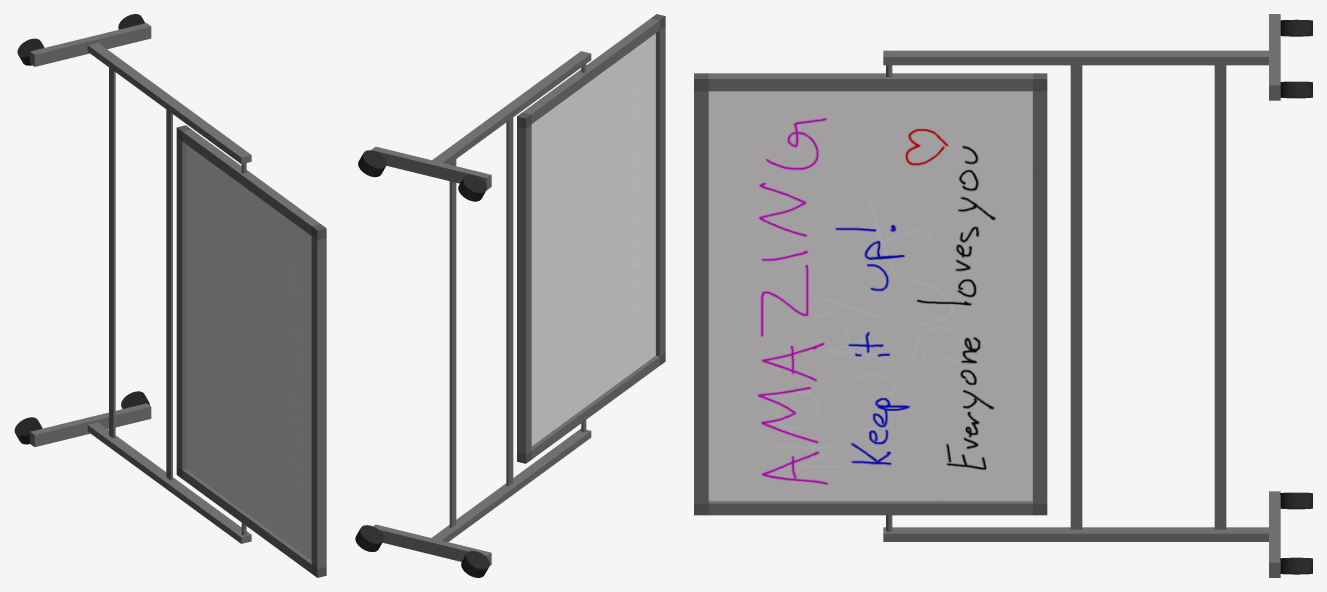
Rendered from whiteboard-2.glb.
3 renders of one model, left to right at view 1: azimuth 30°, elevation 25°; view 2: azimuth 150°, elevation 25°; view 3: azimuth 270°, elevation 25°, orthographic. The views are drawn at different scales.
Visible parts, largest first — view 1: pCube1, pCube3; view 2: pCube1, pCube3; view 3: pCube1, pCube3.
Boxes of the visible parts, x1,y1,x2,y2 form: pCube1: [176, 125, 326, 577]; pCube3: [14, 14, 251, 543]; pCube1: [517, 14, 665, 463]; pCube3: [355, 51, 591, 577]; pCube1: [694, 73, 1047, 515]; pCube3: [883, 14, 1312, 577].
Size of the model in its own units: 0.4624 by 1.34 by 1.5.
Materials: 4 (1 with a texture image).
